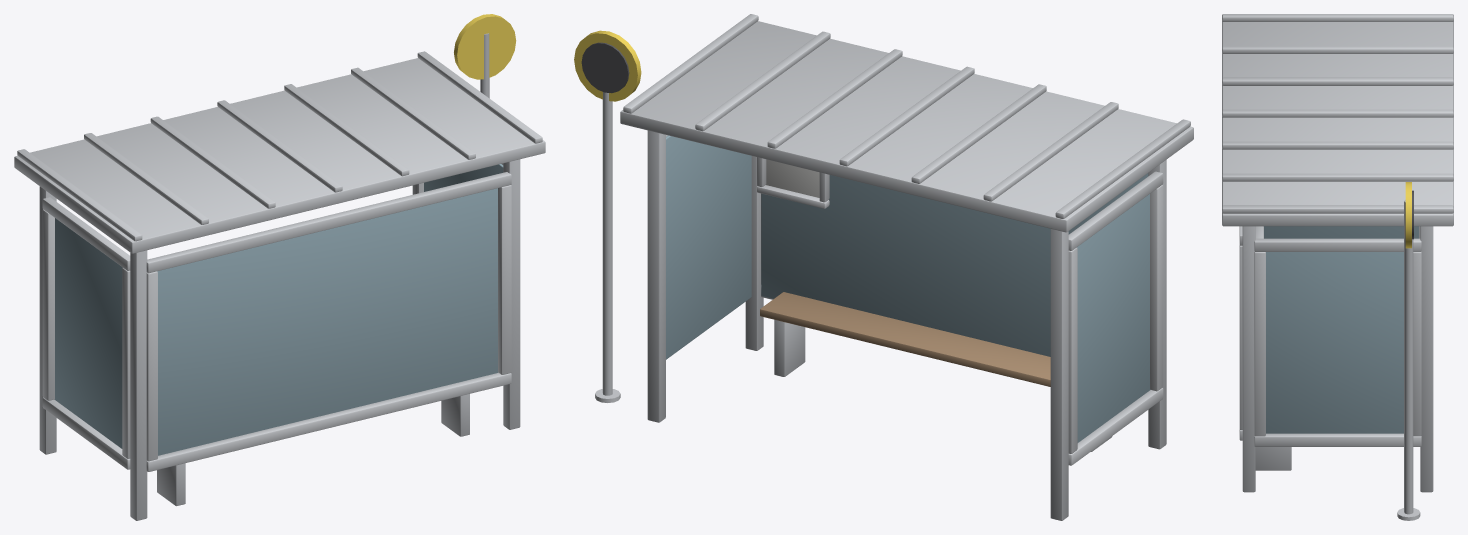
File: th39_bushalt.glb
3 views of the same model, side by side, from view 1: azimuth 30°, elevation 25°; view 2: azimuth 150°, elevation 25°; view 3: azimuth 270°, elevation 25° (orthographic). The views are drawn at different scales.
Visible parts, largest first — view 1: Cube.004, Cube.019, Cube.009, Cube.005, Cube.006, Cube, Cube.002, Cylinder.002, Cube.008, Cube.013, Cube.007, Cube.001 (+13 smaller); view 2: Cube.019, Cube.004, Cube.014, Cube.009, Cube.027, Cube.003, Cube.001, Cylinder, Cube.012, Cube.002, Cube.013, Cube (+14 smaller); view 3: Cube.019, Cube.014, Cube.002, Cube.003, Cylinder, Cube.017, Cube.015, Cube.016, Cube.022, Cube.023, Cube.024, Cube.025 (+8 smaller).
Boxes of the visible parts, box(x1,y1,x2,y2) form: Cube.004: box(157, 188, 498, 455); Cube.019: box(14, 58, 545, 253); Cube.009: box(54, 218, 122, 448); Cube.005: box(146, 172, 511, 273); Cube.006: box(146, 372, 511, 471); Cube: box(130, 250, 147, 520); Cube.002: box(503, 159, 520, 429); Cylinder.002: box(454, 14, 516, 79); Cube.008: box(498, 185, 511, 374); Cube.013: box(42, 209, 54, 400); Cube.007: box(146, 271, 157, 461); Cube.001: box(39, 186, 56, 454); Cube.019: box(620, 21, 1193, 232); Cube.004: box(761, 173, 1148, 356); Cube.014: box(666, 135, 751, 359); Cube.009: box(1077, 194, 1150, 442); Cube.027: box(760, 292, 1050, 386); Cube.003: box(647, 130, 665, 422); Cube.001: box(1050, 229, 1068, 520); Cylinder: box(602, 92, 612, 395); Cube.012: box(1150, 185, 1163, 391); Cube.002: box(745, 156, 763, 350); Cube.013: box(1068, 247, 1077, 453); Cube: box(1148, 160, 1166, 449); Cube.019: box(1222, 21, 1453, 226); Cube.014: box(1266, 252, 1403, 433); Cube.002: box(1242, 226, 1255, 492); Cube.003: box(1420, 226, 1433, 492); Cylinder: box(1404, 200, 1413, 514); Cube.017: box(1254, 252, 1265, 436); Cube.015: box(1254, 238, 1421, 251); Cube.016: box(1254, 433, 1421, 446); Cube.022: box(1222, 77, 1453, 85); Cube.023: box(1222, 109, 1453, 117); Cube.024: box(1222, 141, 1453, 149); Cube.025: box(1222, 173, 1453, 181).
Bounding box in the file's own units: 4.2 × 2.84 × 1.8.
